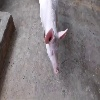heo: (39, 19, 71, 77)
